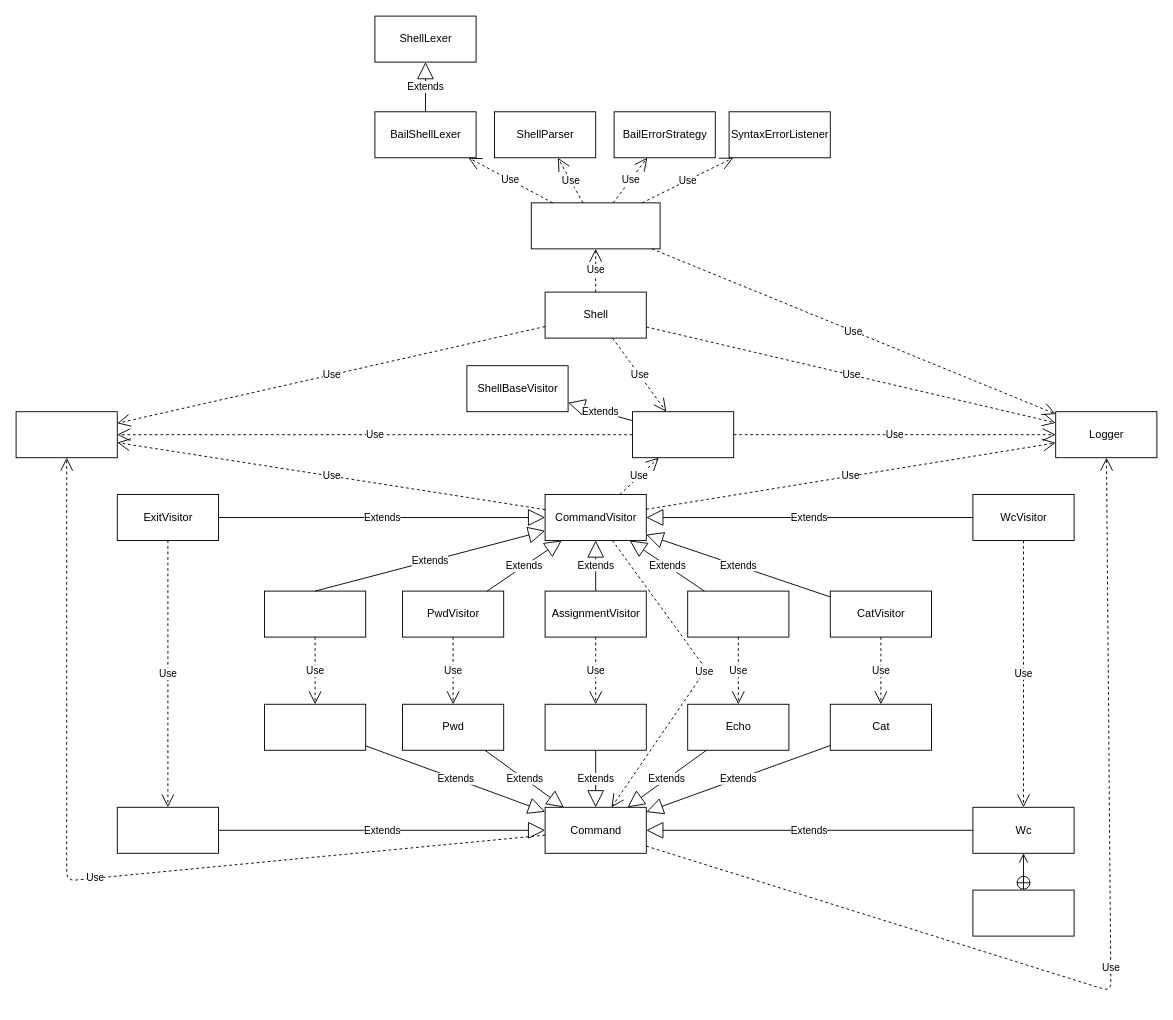
This 1173x1020 diagram has some shape labels left out. The shapes that lost their labels are listed below. From the top down, each one's box as (x1, y1, x2, y2) in pixels, then its label:
(530, 202, 660, 249): ANTLRParserAdaptor
(15, 411, 117, 458): Environment
(632, 411, 734, 458): ShellVisitorImpl
(264, 590, 366, 637): ProcVisitor
(687, 590, 789, 637): EchoVisitor
(264, 703, 366, 750): Proc
(544, 703, 646, 750): Assignment
(116, 806, 218, 853): Exit
(972, 889, 1074, 936): FileInfo
